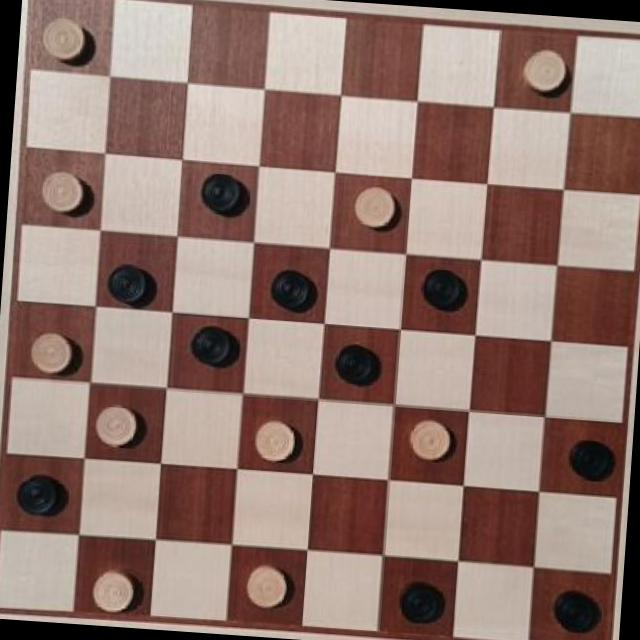BOARD: (0, 0, 640, 640)
black: (1, 460, 71, 525), (552, 428, 624, 490), (391, 568, 455, 634), (256, 258, 322, 320), (539, 583, 609, 640), (406, 260, 472, 312), (100, 251, 150, 313), (180, 320, 244, 368), (188, 162, 244, 216), (327, 337, 382, 388)
white: (23, 156, 104, 232), (16, 317, 84, 391), (77, 556, 150, 622), (396, 410, 462, 470), (344, 177, 411, 236), (35, 7, 92, 71), (512, 40, 570, 100), (87, 394, 138, 458), (245, 410, 300, 468), (242, 559, 294, 616)
